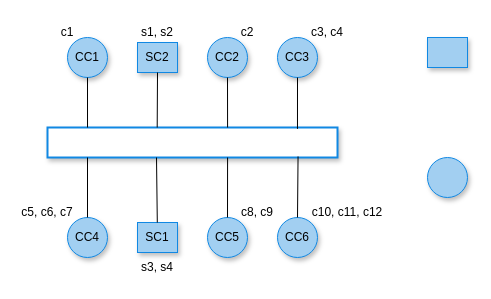
The diagram is 491 pixels wide and 299 high, and some of its shapes have lost their labels. Here are the shapes that lost their labels. From the top down, the centre of each, then its label:
At [448,53]: "Server Rechner".
At [193,143]: "Netzwerk".
At [448,178]: "Client Rechner".
